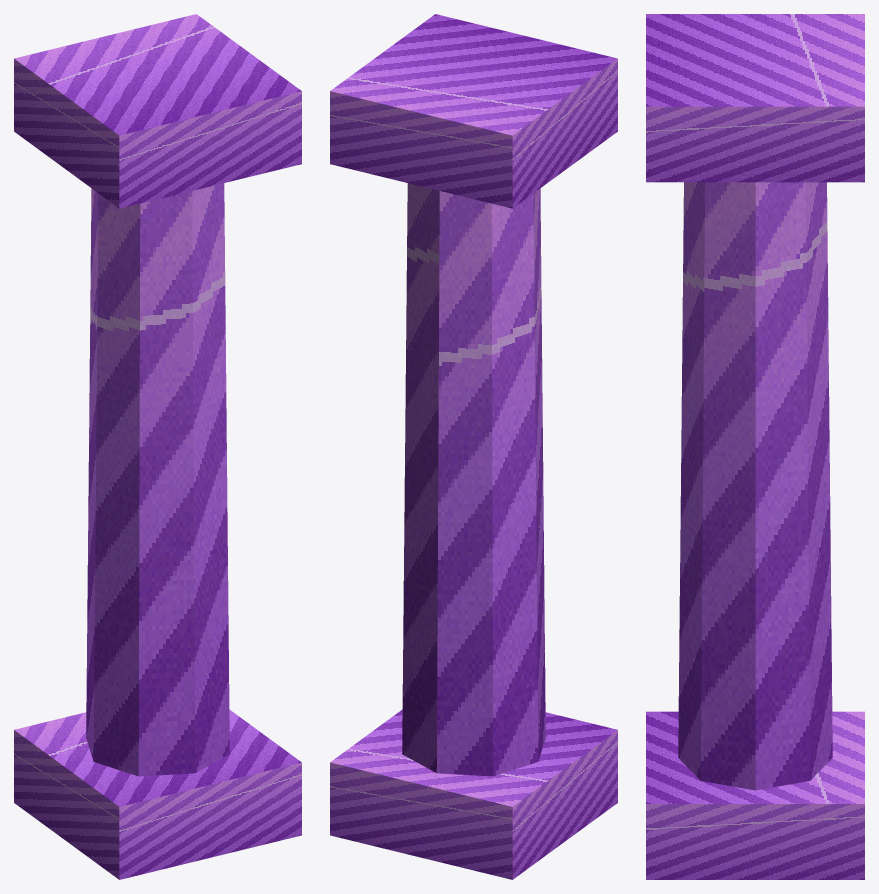
File: pilar_de_ametista.glb
3 renders of one model, left to right at view 1: azimuth 30°, elevation 25°; view 2: azimuth 150°, elevation 25°; view 3: azimuth 270°, elevation 25°, orthographic. The views are drawn at different scales.
Parts seen in each view (by area): view 1: pilar_de_ametista; view 2: pilar_de_ametista; view 3: pilar_de_ametista.
Boxes of the visible parts, bbox=[...] form: pilar_de_ametista: bbox=[14, 14, 301, 879]; pilar_de_ametista: bbox=[330, 14, 617, 879]; pilar_de_ametista: bbox=[646, 14, 864, 879].
Bounding box in the file's own units: 0.68 × 2.65 × 0.68.
Materials: 1 (1 with a texture image).
